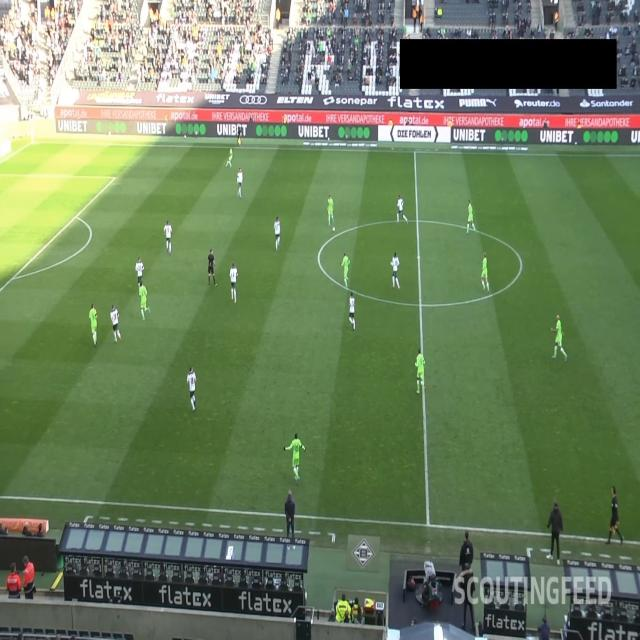ball: (332, 226, 336, 232)
